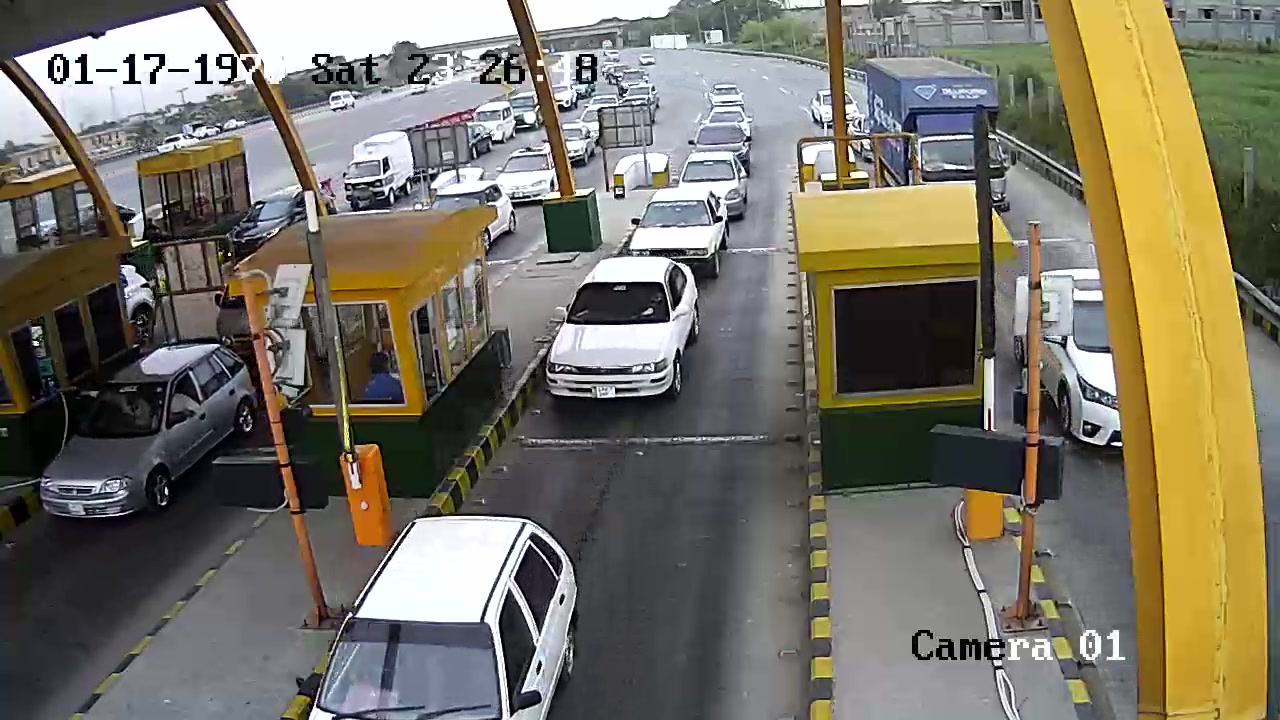F1: (537, 253, 709, 410)
